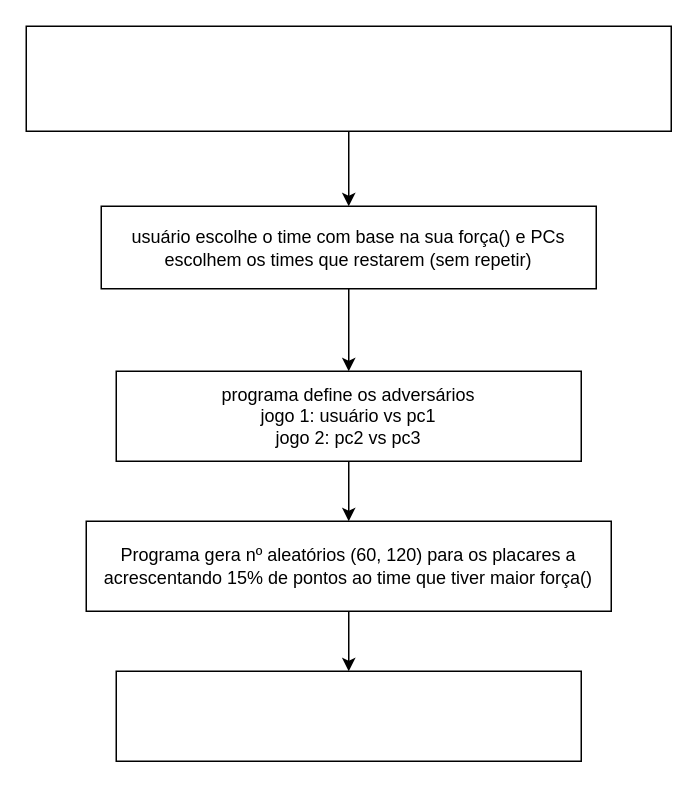
This 698x788 diagram has some shape labels left out. Each missing label, with the centre of its shape:
Apresentar ao lado de cada placar o resultado: (x=348, y=715)
Print Times lakers (88), warriors (84), spurs (77), bulls(73): (x=348, y=78)
